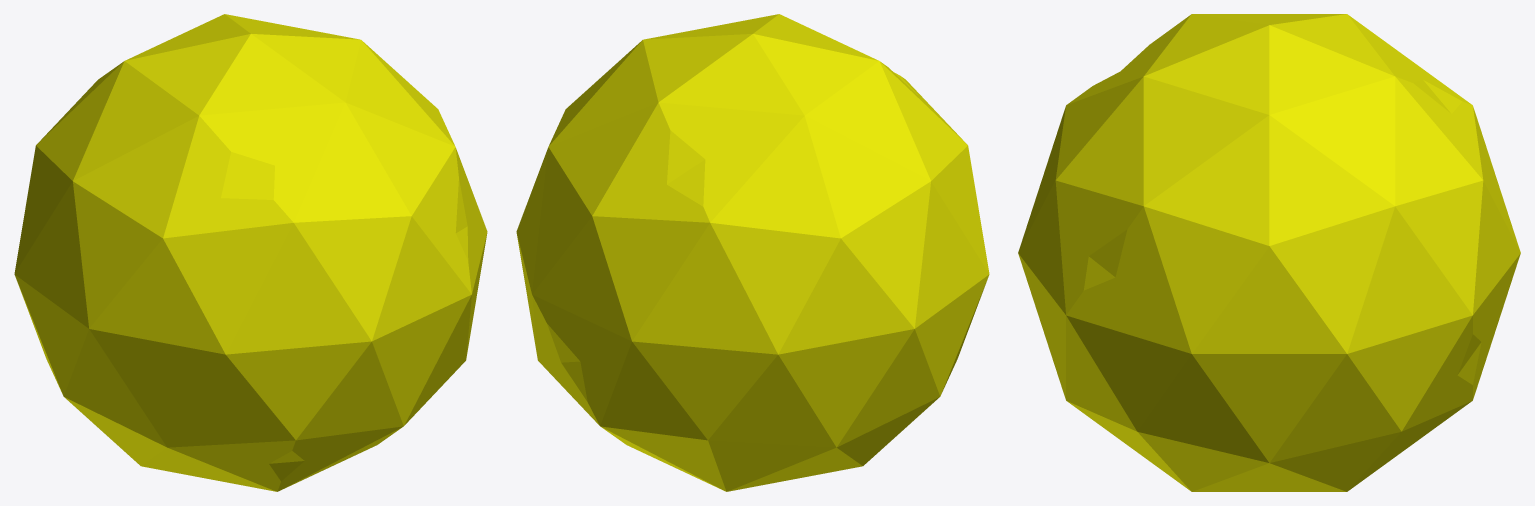
The model's file is SM_PolygonPrototype_Primitive_Sphere_01P.glb.
3 renders of one model, left to right at view 1: azimuth 30°, elevation 25°; view 2: azimuth 150°, elevation 25°; view 3: azimuth 270°, elevation 25°, orthographic. The views are drawn at different scales.
Parts seen in each view (by area): view 1: SM_PolygonPrototype_Primitive_Sphere_01P; view 2: SM_PolygonPrototype_Primitive_Sphere_01P; view 3: SM_PolygonPrototype_Primitive_Sphere_01P.
Boxes of the visible parts, x1,y1,x2,y2 form: SM_PolygonPrototype_Primitive_Sphere_01P: (14,14,487,491); SM_PolygonPrototype_Primitive_Sphere_01P: (516,14,989,491); SM_PolygonPrototype_Primitive_Sphere_01P: (1018,14,1520,491).
Size of the model in its own units: 0.9536 by 1 by 1.
Materials: 1 (1 with a texture image).
